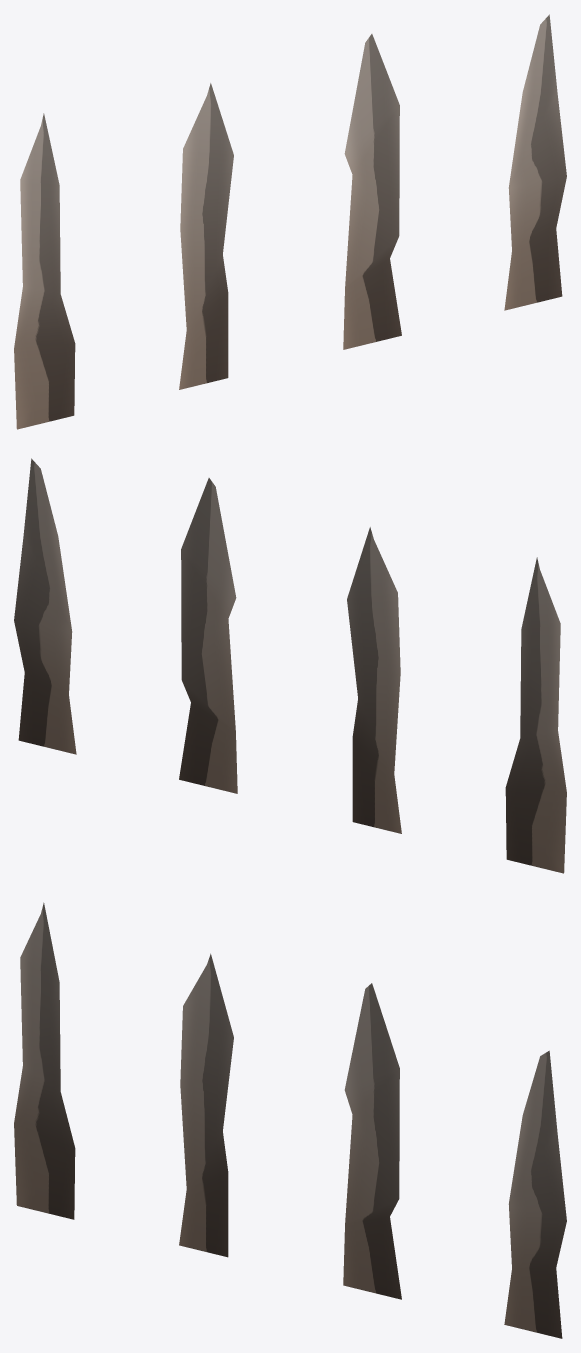
File: blade fense.fbx
3 renders of one model, top to bottom at view 1: azimuth 30°, elevation 25°; view 2: azimuth 150°, elevation 25°; view 3: azimuth 330°, elevation 25°, orthographic.
Parts seen in each view (by area): view 1: blade_fense; view 2: blade_fense; view 3: blade_fense.
Boxes of the visible parts, x1=… form: blade_fense: x1=14, y1=14, x2=566, y2=429; blade_fense: x1=14, y1=458, x2=566, y2=873; blade_fense: x1=14, y1=902, x2=566, y2=1338.
Bounding box in the file's own units: 47.47 × 25.47 × 1.25e-16.
1 material, 1 textured.
